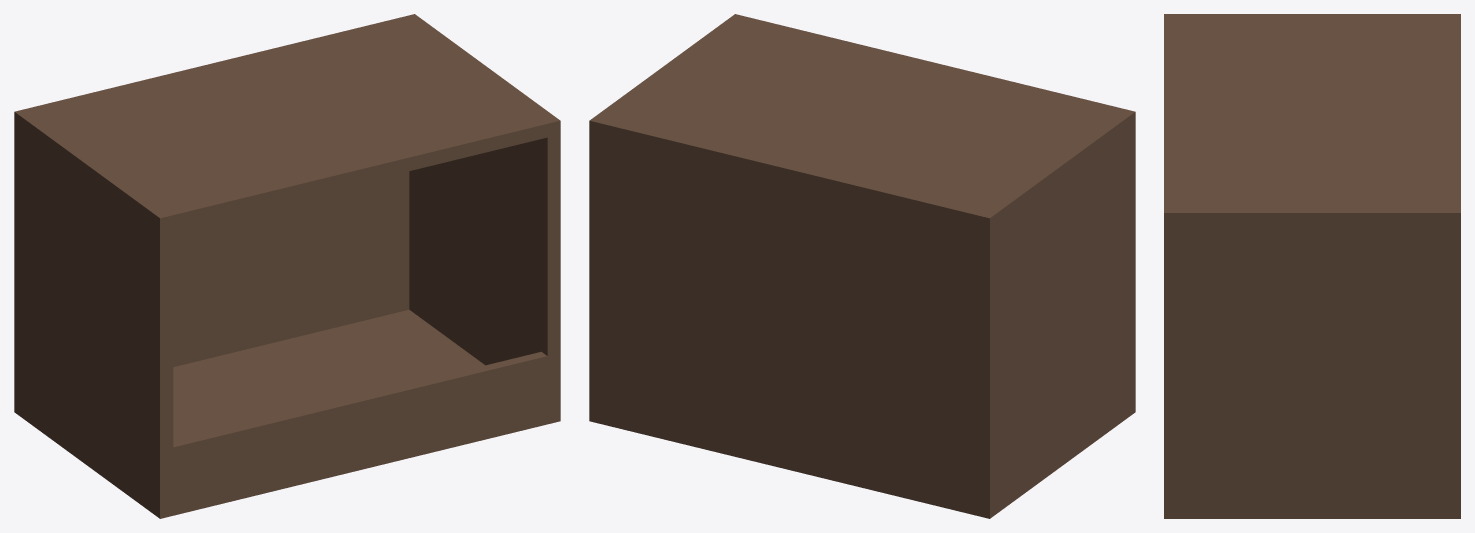
The model's file is crate-shelf-wall.glb.
The picture shows the model from 3 angles, left to right: view 1: azimuth 30°, elevation 25°; view 2: azimuth 150°, elevation 25°; view 3: azimuth 270°, elevation 25°; orthographic projection.
Parts seen in each view (by area): view 1: wood; view 2: wood; view 3: wood.
Boxes of the visible parts, x1,y1,x2,y2 form: wood: (14, 14, 560, 518); wood: (589, 14, 1135, 518); wood: (1164, 14, 1460, 518).
Size of the model in its own units: 0.46 by 0.33 by 0.29.
